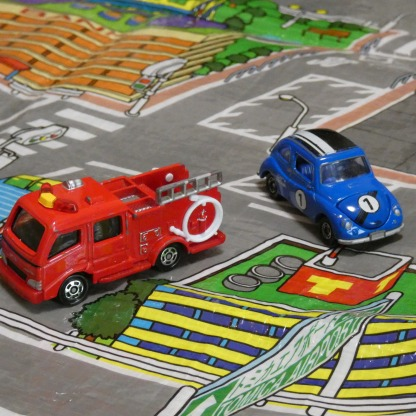car: (0, 164, 226, 305), (256, 127, 406, 250)
